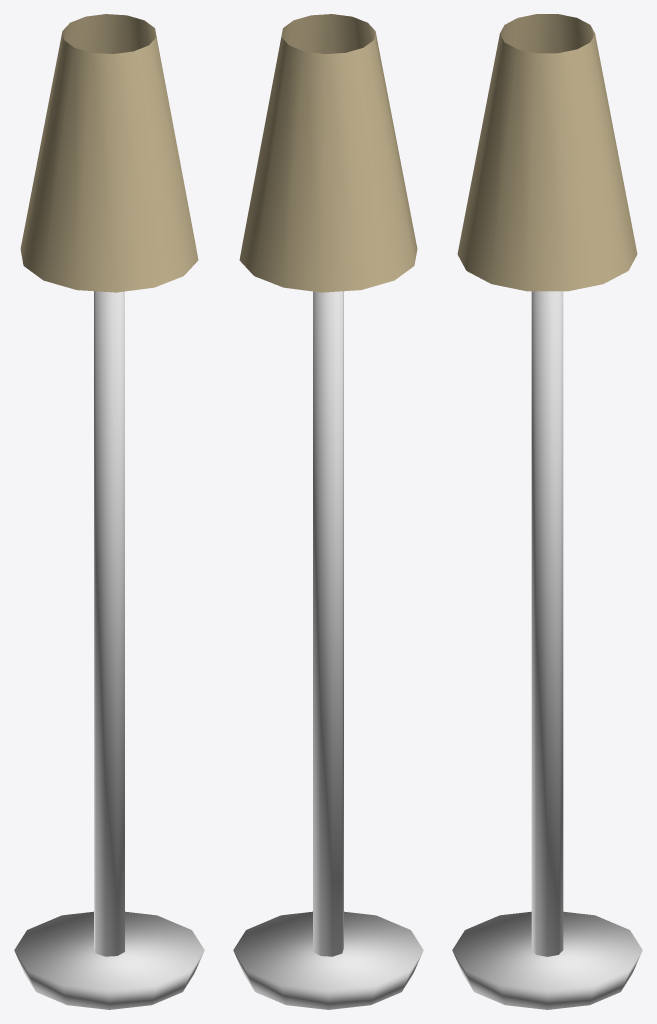
Rendered from wooden_lamp_v0.glb.
3 renders of one model, left to right at view 1: azimuth 30°, elevation 25°; view 2: azimuth 150°, elevation 25°; view 3: azimuth 270°, elevation 25°, orthographic.
Parts seen in each view (by area): view 1: wooden_lamp_v0; view 2: wooden_lamp_v0; view 3: wooden_lamp_v0.
Part boxes in pixels (x1=…): wooden_lamp_v0: x1=14, y1=14, x2=204, y2=1009; wooden_lamp_v0: x1=233, y1=14, x2=423, y2=1009; wooden_lamp_v0: x1=452, y1=14, x2=642, y2=1009.
Bounding box in the file's own units: 0.36 × 1.96 × 0.36.
